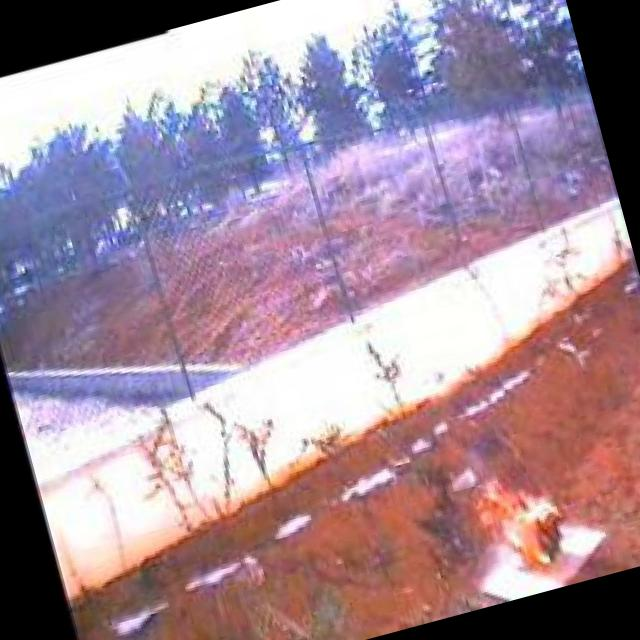Fire: (462, 453, 580, 589)
